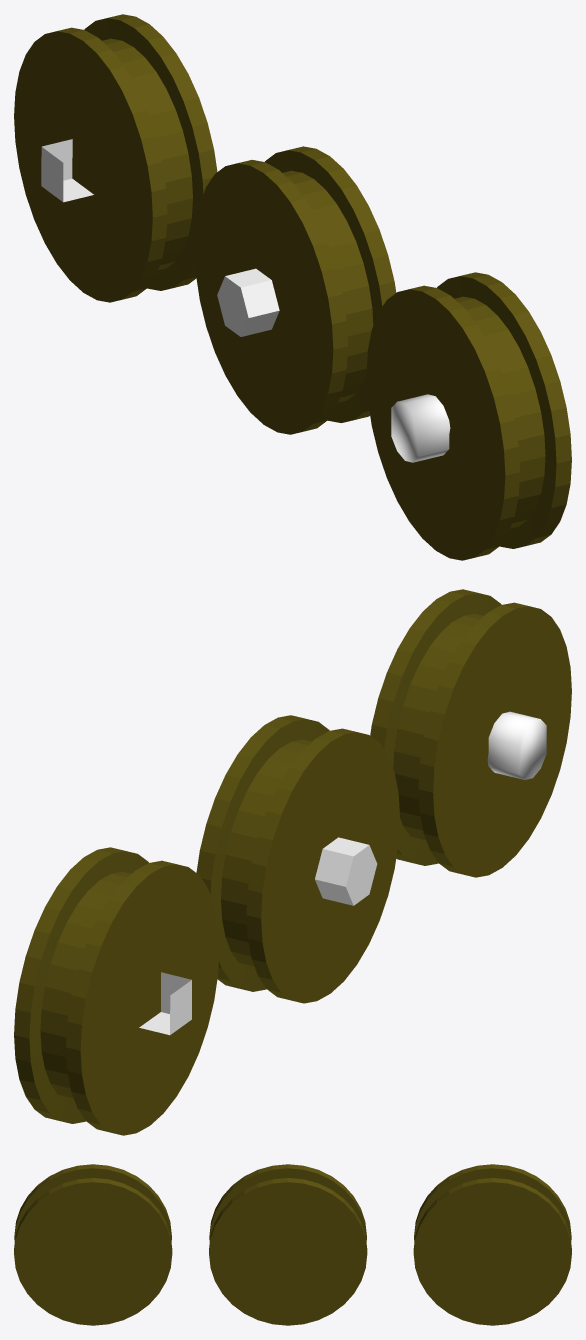
The model's file is Sistemas anti giro.glb.
The picture shows the model from 3 angles, top to bottom: view 1: azimuth 30°, elevation 25°; view 2: azimuth 150°, elevation 25°; view 3: azimuth 270°, elevation 25°; orthographic projection. The views are drawn at different scales.
Parts seen in each view (by area): view 1: Cylinder.001, Cylinder.002, Cylinder, Circle.001, Circle, Circle.002; view 2: Cylinder.002, Cylinder, Cylinder.001, Circle.001, Circle, Circle.002; view 3: Cylinder, Cylinder.001, Cylinder.002.
Part boxes in pixels (<box>): Cylinder.001: <box>366,272,571,560</box>; Cylinder.002: <box>14,14,217,302</box>; Cylinder: <box>194,146,396,434</box>; Circle.001: <box>391,394,450,462</box>; Circle: <box>217,268,279,336</box>; Circle.002: <box>41,139,93,202</box>; Cylinder.002: <box>14,847,219,1135</box>; Cylinder: <box>196,715,399,1003</box>; Cylinder.001: <box>370,589,571,877</box>; Circle.001: <box>487,711,546,779</box>; Circle: <box>315,837,377,905</box>; Circle.002: <box>139,972,191,1035</box>; Cylinder: <box>209,1164,367,1325</box>; Cylinder.001: <box>14,1164,172,1325</box>; Cylinder.002: <box>413,1164,571,1325</box>.
Bounding box in the file's own units: 1.53 × 3.81 × 13.43.
